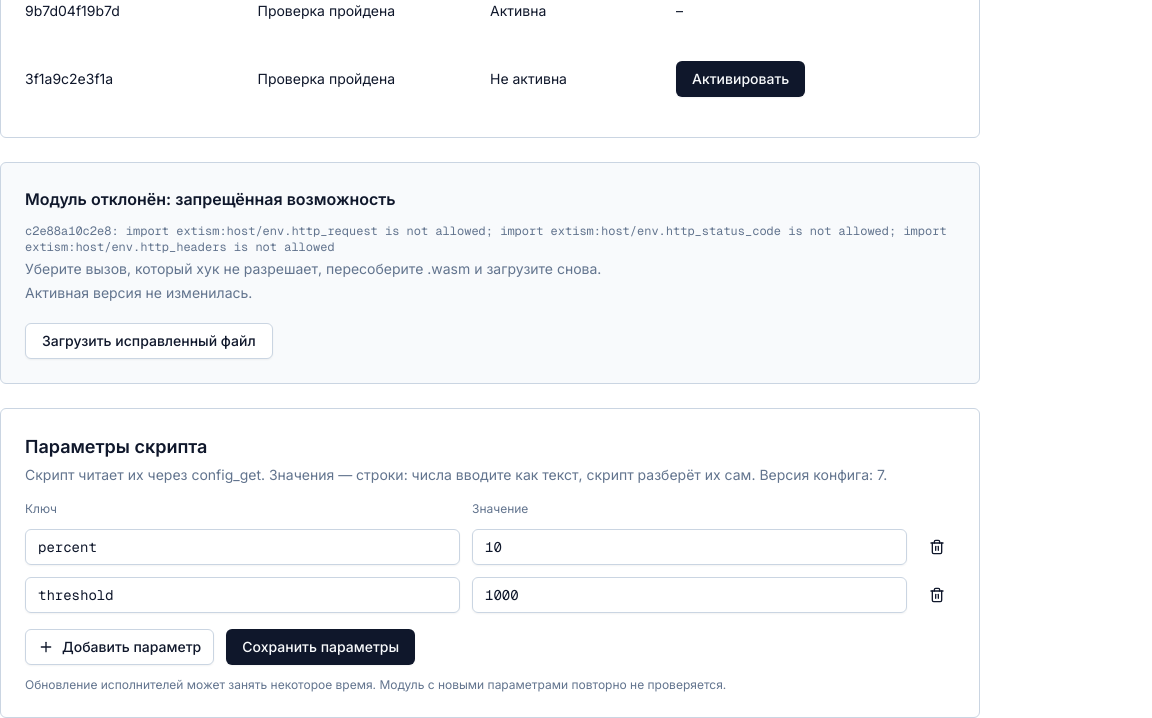
Test: TenantHookPage › requires unique non-empty keys
This screenshot has width=1152, height=718.
(page scrolled)
Check: the field showing "10" is shown, box [472,529,907,565]
Click the button "Добавить параметр" at (120, 647), box [25,629,214,665]
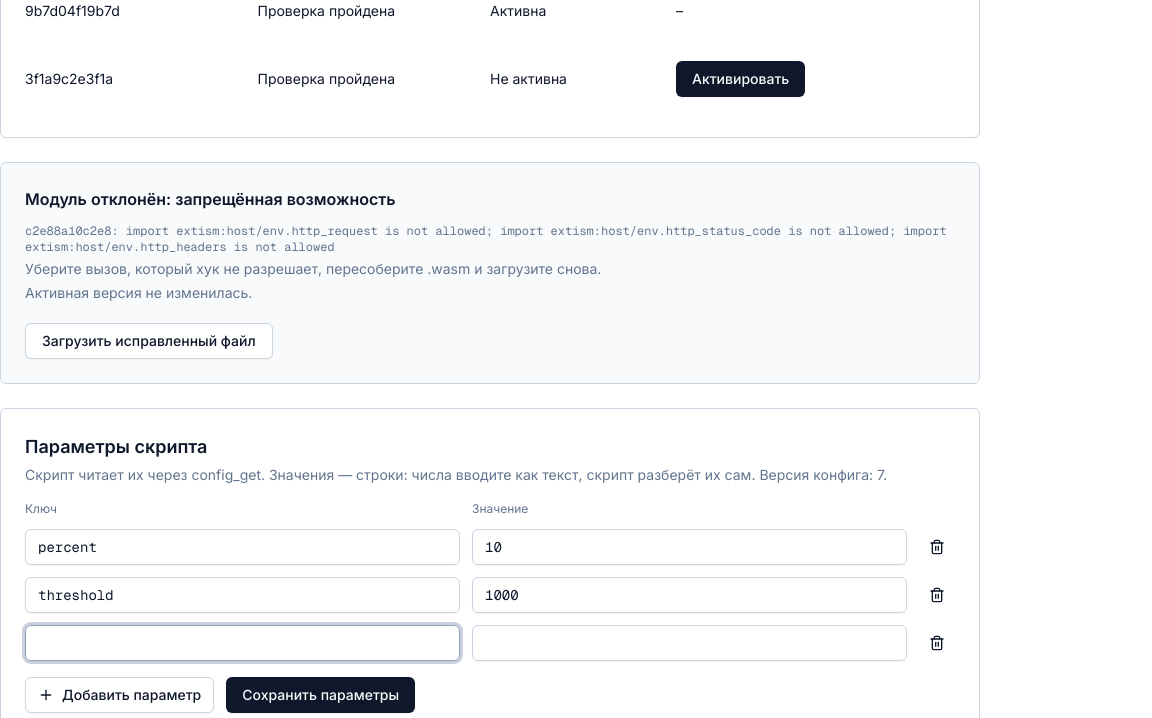
Type "percent" into the field named "Ключ 3" at (242, 643), box [25,625,460,661]
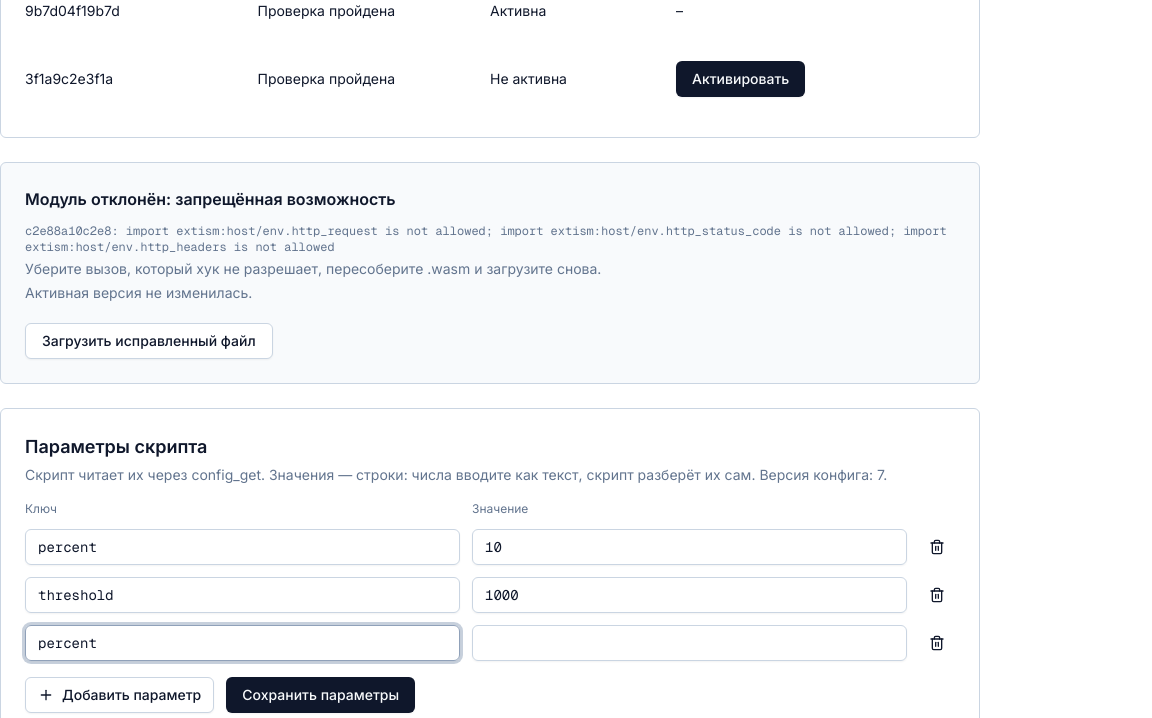
Click the button "Добавить параметр" at (120, 695), box [25,677,214,713]
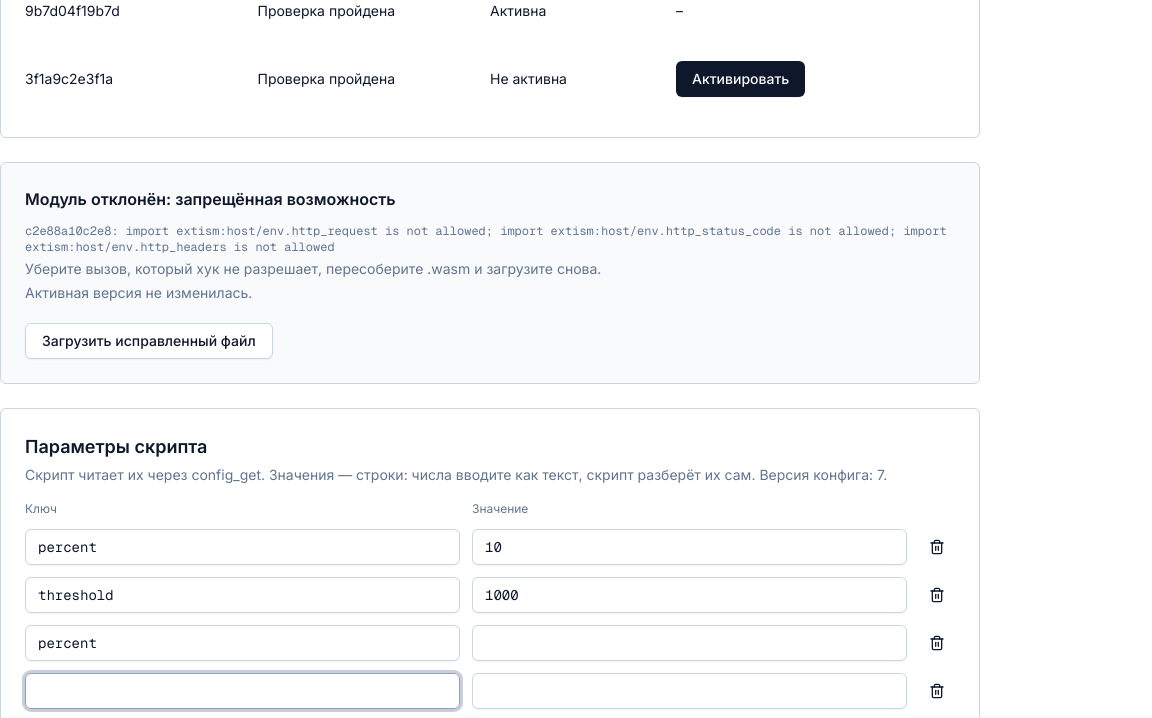
Type "5" into the field named "Значение 4" at (690, 691), box [472,673,907,709]
(page scrolled)
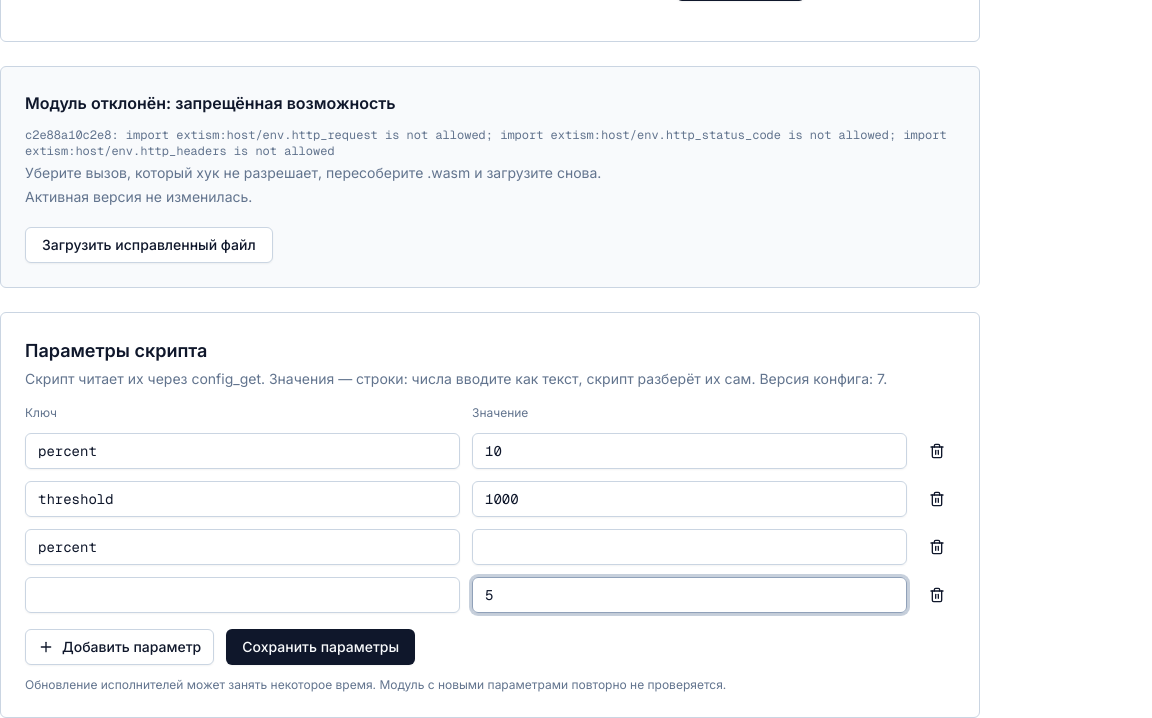
Click the button "Сохранить параметры" at (321, 647), box [226,629,415,665]
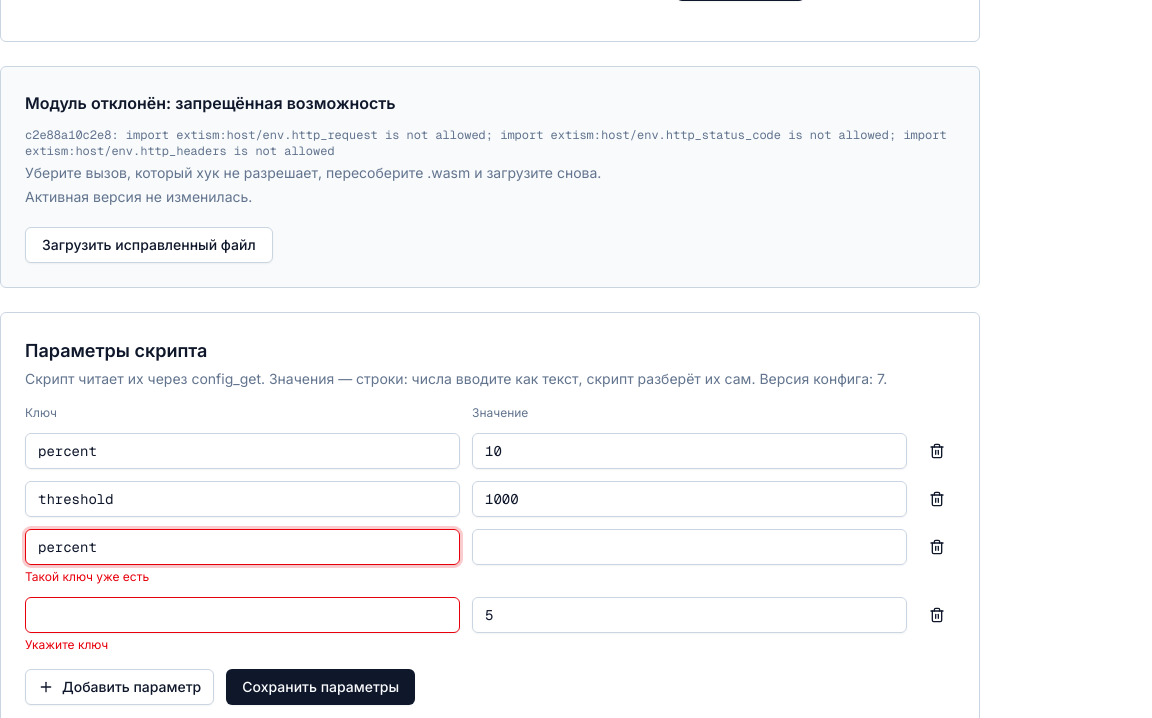
Check: the text "Такой ключ уже есть" is shown, box [25,569,149,584]
Check: the text "Укажите ключ" is shown, box [25,637,108,652]
